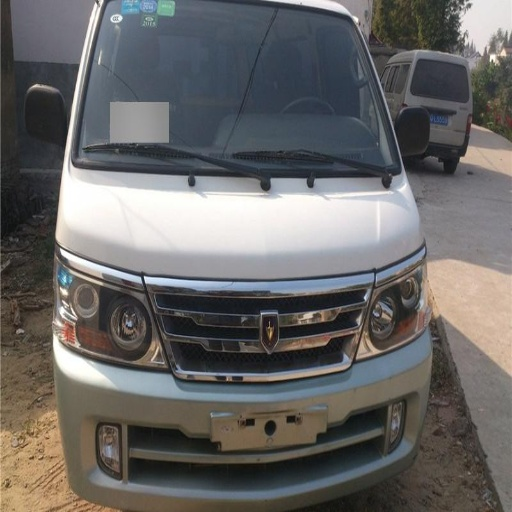front_bumper: (55, 271, 426, 511)
front_right_light: (60, 263, 163, 367)
hood: (59, 166, 422, 279)
left_mirror: (401, 109, 435, 158)
